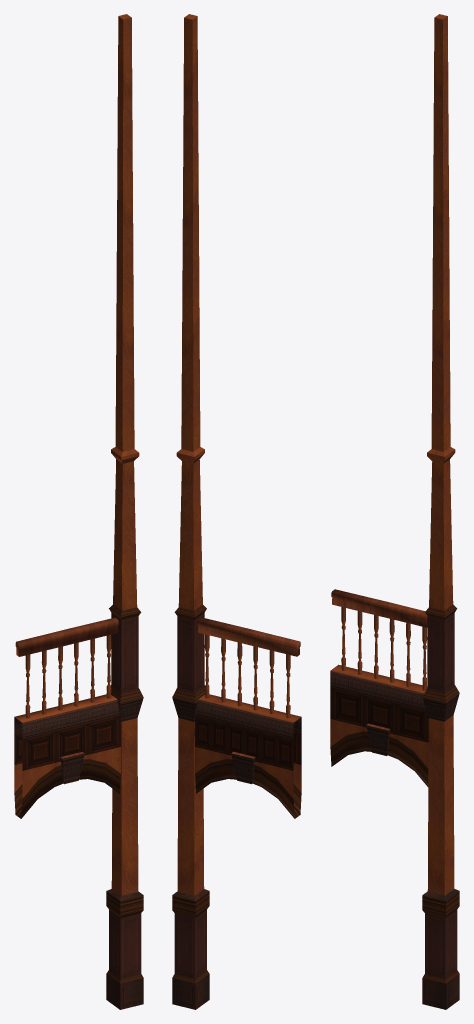
Rendered from Balconey_1PoleShort.fbx.
3 renders of one model, left to right at view 1: azimuth 30°, elevation 25°; view 2: azimuth 150°, elevation 25°; view 3: azimuth 330°, elevation 25°, orthographic.
Parts seen in each view (by area): view 1: Balcony_2_PolesShorter_LOD0.000; view 2: Balcony_2_PolesShorter_LOD0.000; view 3: Balcony_2_PolesShorter_LOD0.000.
Boxes of the visible parts, x1,y1,x2,y2 form: Balcony_2_PolesShorter_LOD0.000: (14,14,143,1009); Balcony_2_PolesShorter_LOD0.000: (172,14,301,1009); Balcony_2_PolesShorter_LOD0.000: (330,14,459,1009).
Size of what is drawn, in the model's own units: 187 by 1473 by 37.26.
